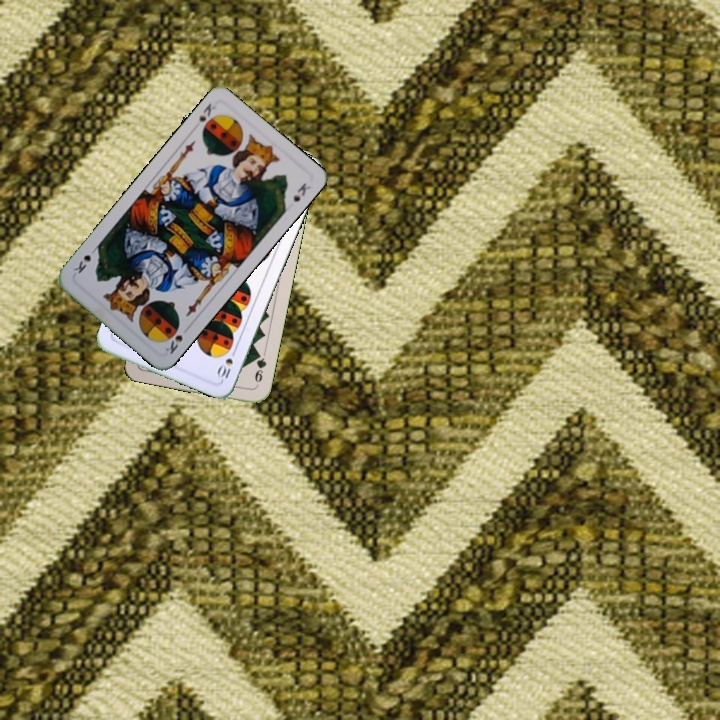G9: (251, 348, 269, 389)
S10: (213, 345, 239, 381)
SK: (161, 322, 192, 357), (194, 99, 219, 126)
